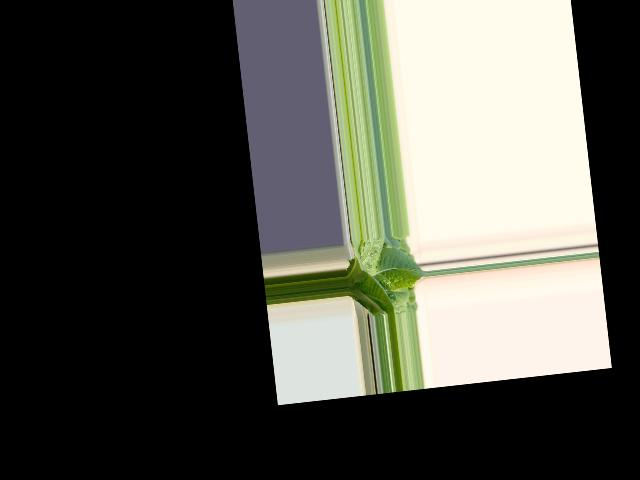lettuce: (343, 241, 421, 317)
